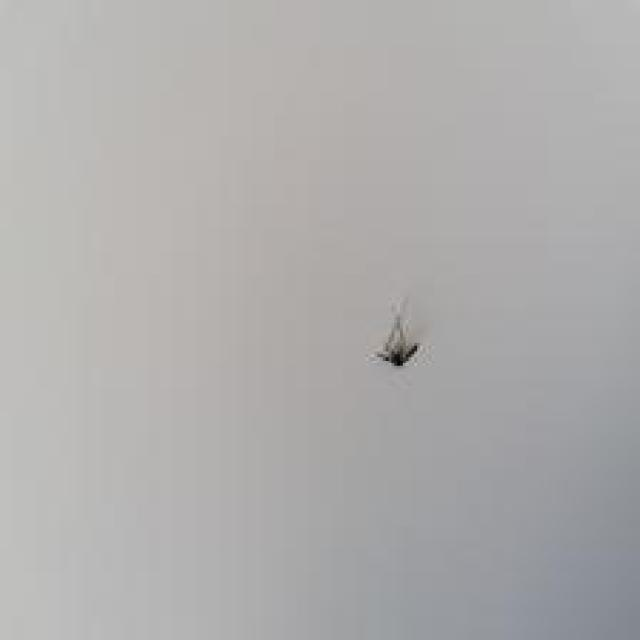Aedes albopictus: (373, 299, 421, 367)
